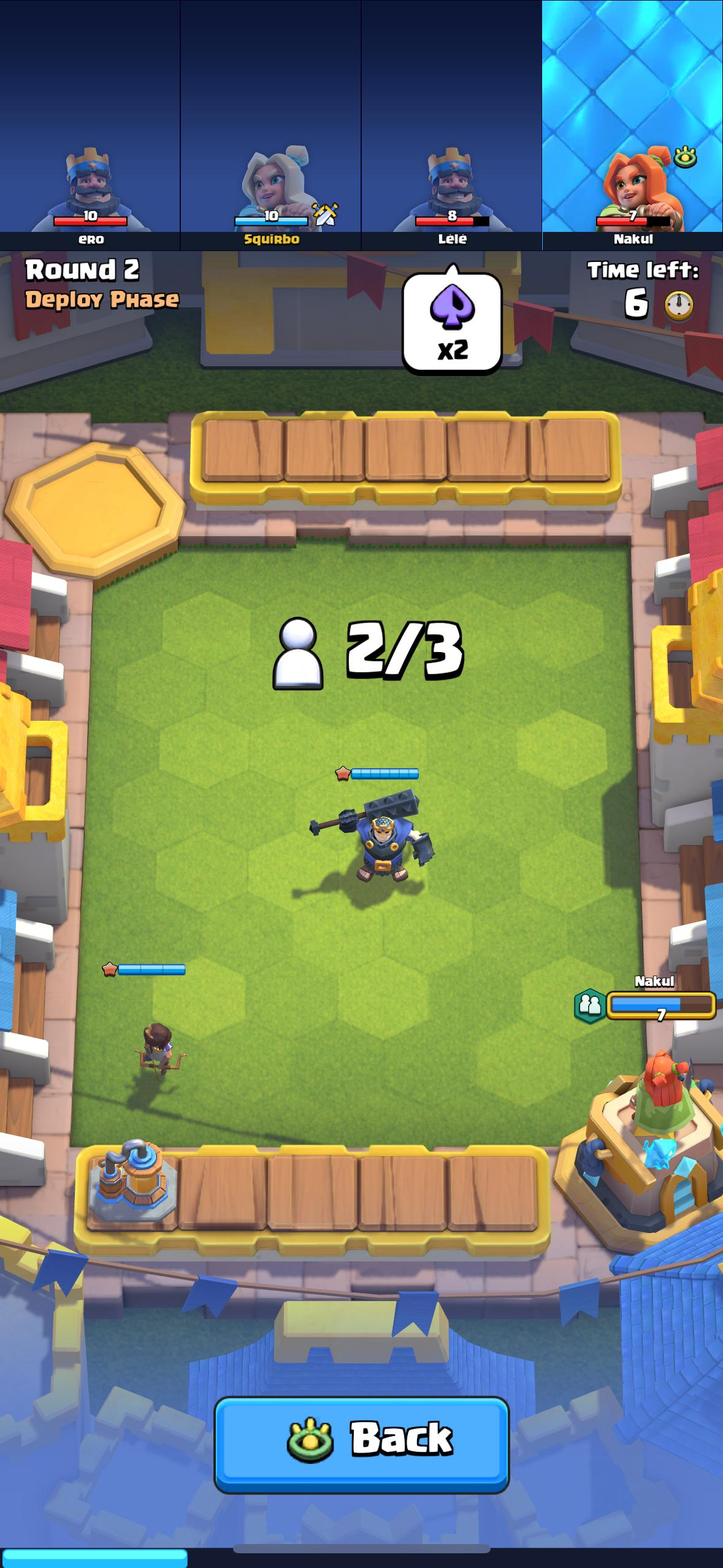collector: (87, 1138, 177, 1225)
king: (329, 784, 434, 887)
princess: (129, 1012, 187, 1085)
